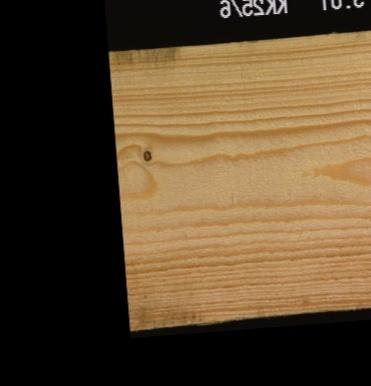dry_knot: (140, 146, 153, 163)
